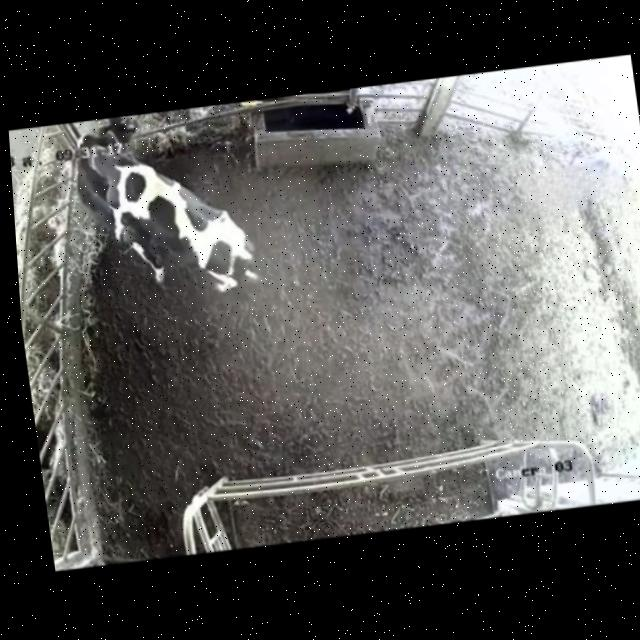ride: (71, 116, 270, 321)
stand: (55, 112, 155, 261)
